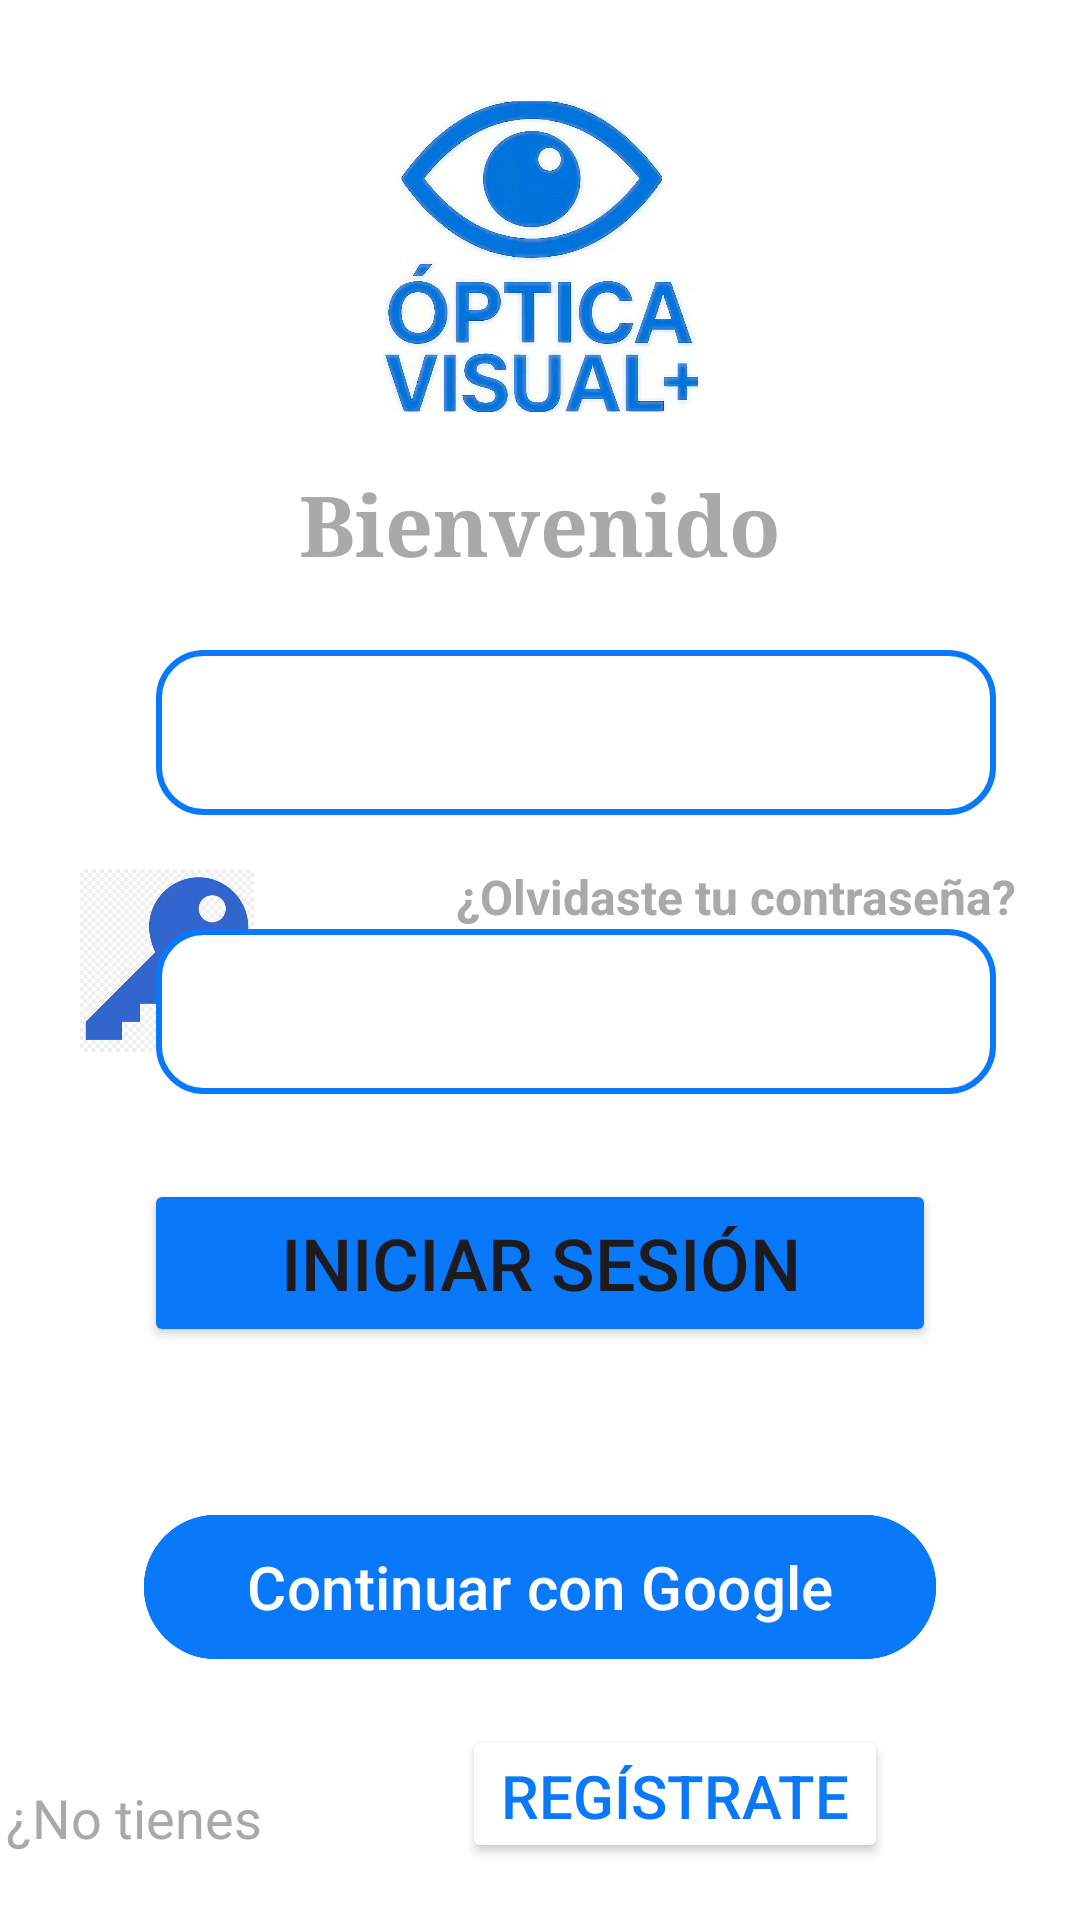

Where icons sit on this 1080×1920 app screen, as (x1, y1, x2, y2):
key: (85, 876, 260, 1052)
